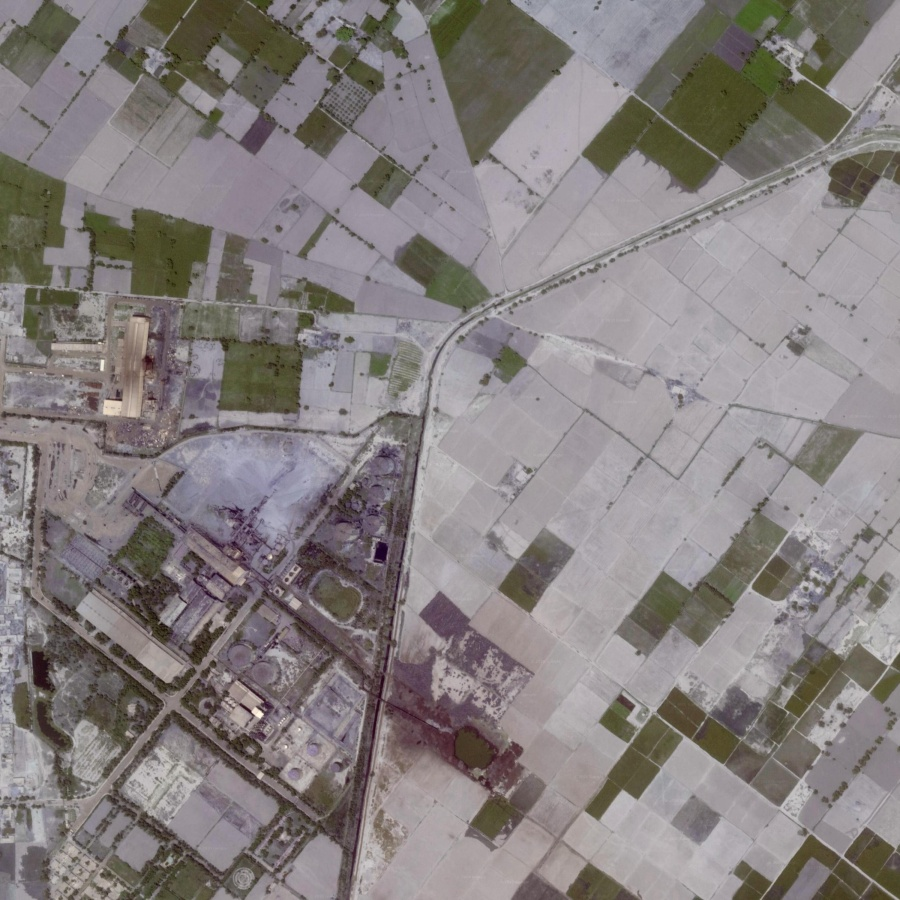PowerPlant: (174, 571, 364, 789)
